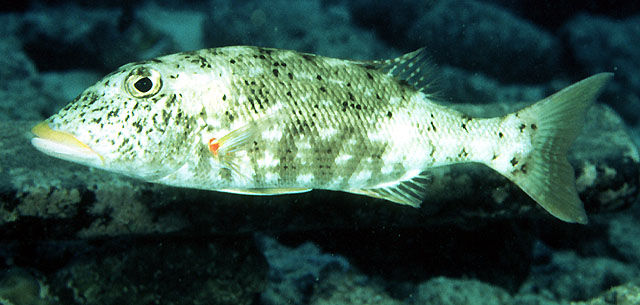fish: (29, 44, 614, 226)
